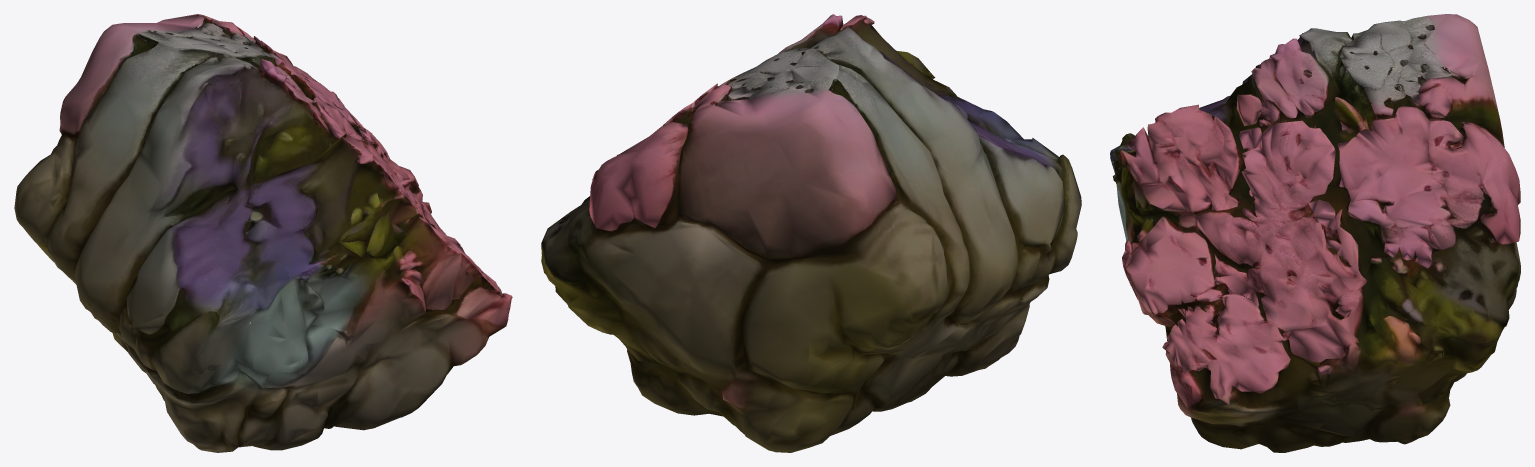
The model's file is rock_b.glb.
The picture shows the model from 3 angles, left to right: view 1: azimuth 30°, elevation 25°; view 2: azimuth 150°, elevation 25°; view 3: azimuth 270°, elevation 25°; orthographic projection. The views are drawn at different scales.
Visible parts, largest first — view 1: tripo_node_2a5fc72a; view 2: tripo_node_2a5fc72a; view 3: tripo_node_2a5fc72a.
Boxes of the visible parts, x1=… form: tripo_node_2a5fc72a: x1=14, y1=14, x2=512, y2=452; tripo_node_2a5fc72a: x1=541, y1=14, x2=1081, y2=452; tripo_node_2a5fc72a: x1=1110, y1=14, x2=1520, y2=452.
Bounding box in the file's own units: 0.979 × 0.8919 × 0.9142.
Materials: 1 (1 with a texture image).
